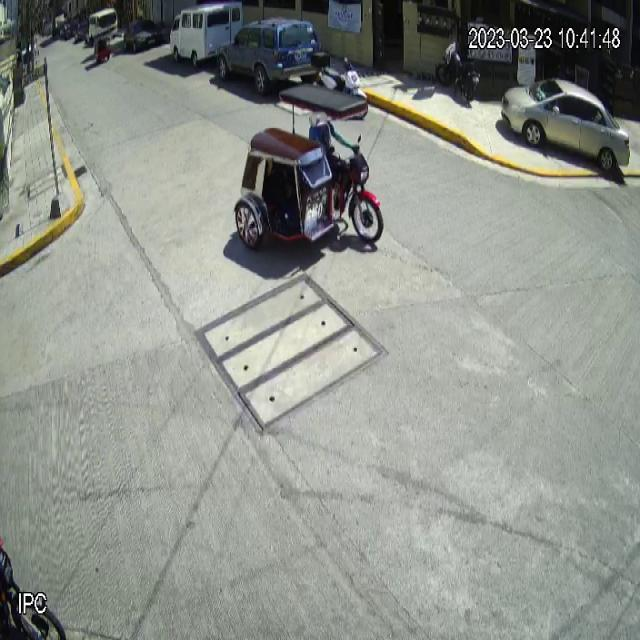Car: (501, 75, 632, 172), (216, 16, 323, 96)
Tricycle: (232, 81, 384, 251)
Van: (169, 0, 242, 69)
